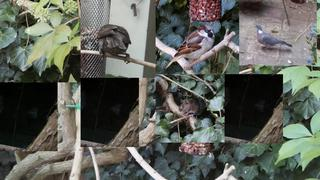mouse: (179, 98, 201, 119)
sparrow: (164, 24, 215, 70)
starling: (98, 24, 132, 65)
wood pigeon: (254, 24, 293, 50)
